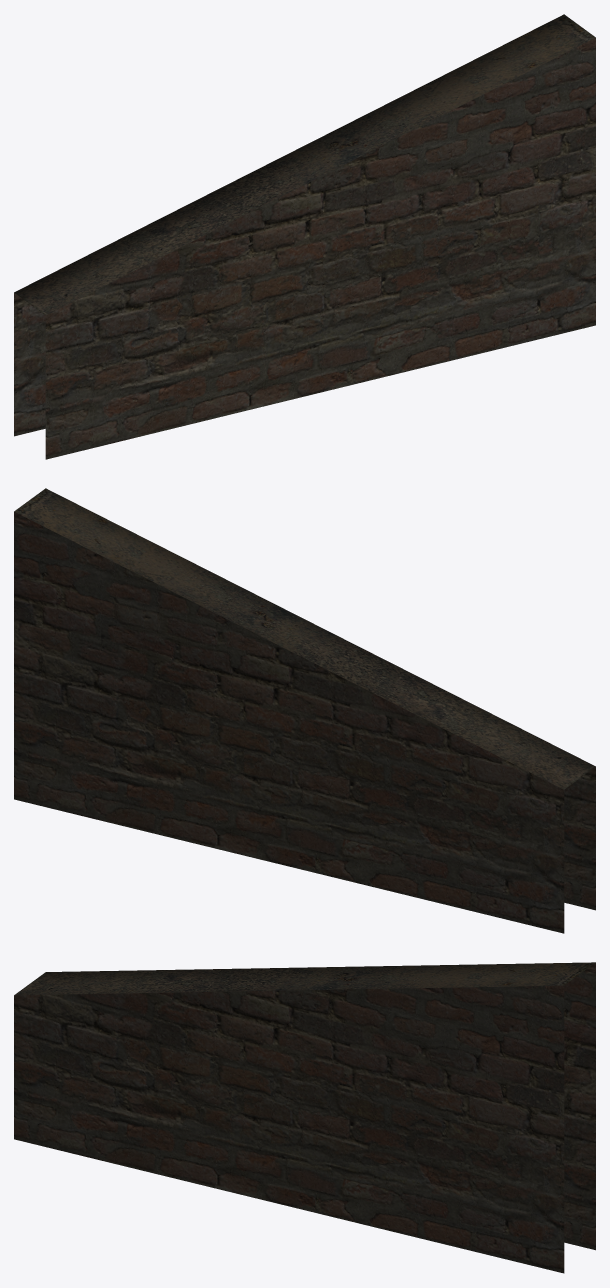
Rendered from wall_top_part_hr_2.fbx.
3 views of the same model, one above another, from view 1: azimuth 30°, elevation 25°; view 2: azimuth 150°, elevation 25°; view 3: azimuth 330°, elevation 25° (orthographic).
Parts seen in each view (by area): view 1: wall_top_part_hr_2; view 2: wall_top_part_hr_2; view 3: wall_top_part_hr_2.
Part boxes in pixels (x1,y1,x2,y2): wall_top_part_hr_2: [14, 14, 595, 459]; wall_top_part_hr_2: [14, 488, 595, 933]; wall_top_part_hr_2: [14, 962, 595, 1273].
Size of the model in its own units: 4 by 0.4 by 2.
